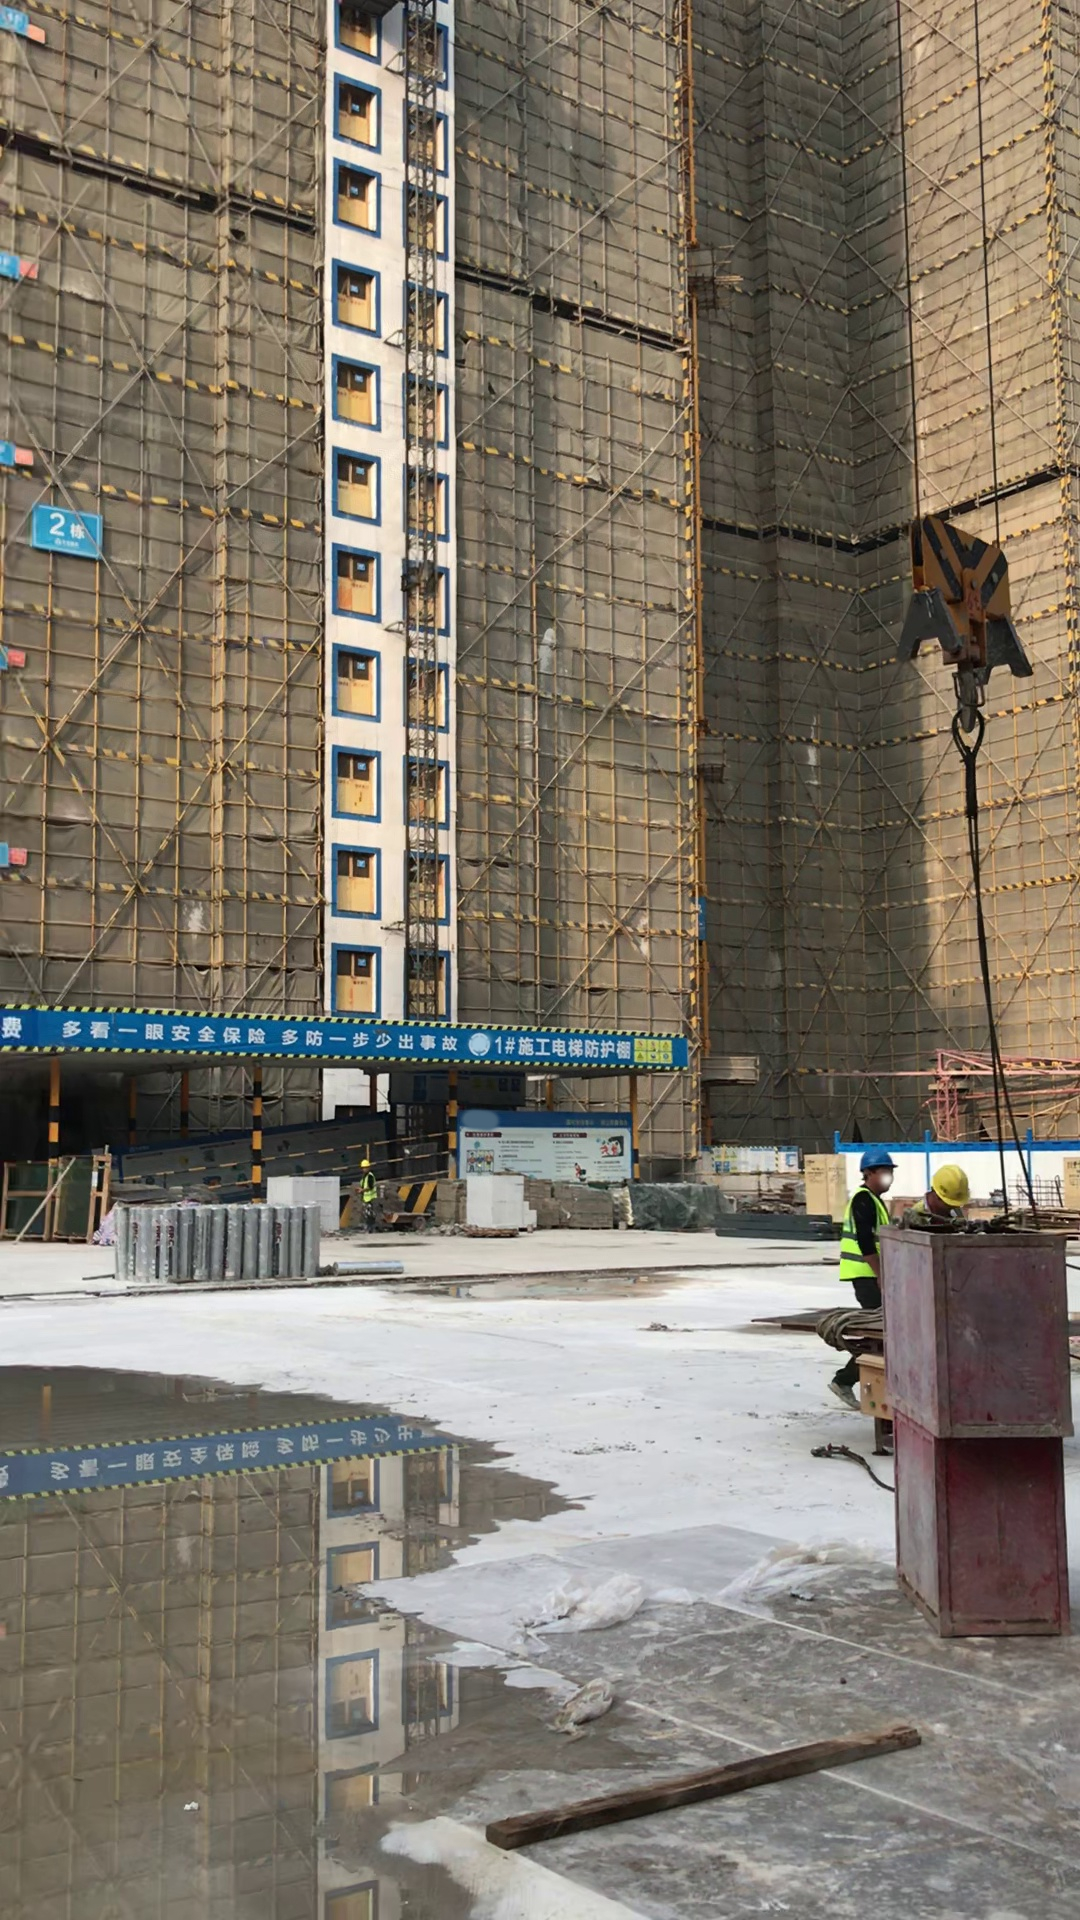brick: (261, 1170, 349, 1236), (460, 1174, 538, 1232)
ebox: (835, 1353, 903, 1435)
fence: (117, 1130, 452, 1197)
helmet: (926, 1160, 974, 1212), (858, 1148, 902, 1171), (357, 1156, 375, 1169)
hook: (875, 484, 1041, 803)
person: (821, 1147, 900, 1423), (904, 1155, 980, 1229), (353, 1150, 395, 1238)
slogan: (6, 994, 693, 1090), (1, 1422, 463, 1514), (437, 1107, 642, 1204), (31, 477, 121, 571), (707, 1142, 805, 1175)
vest: (836, 1184, 883, 1281), (356, 1172, 384, 1204), (912, 1193, 933, 1221)
wood: (525, 1174, 614, 1233), (433, 1176, 467, 1228)
